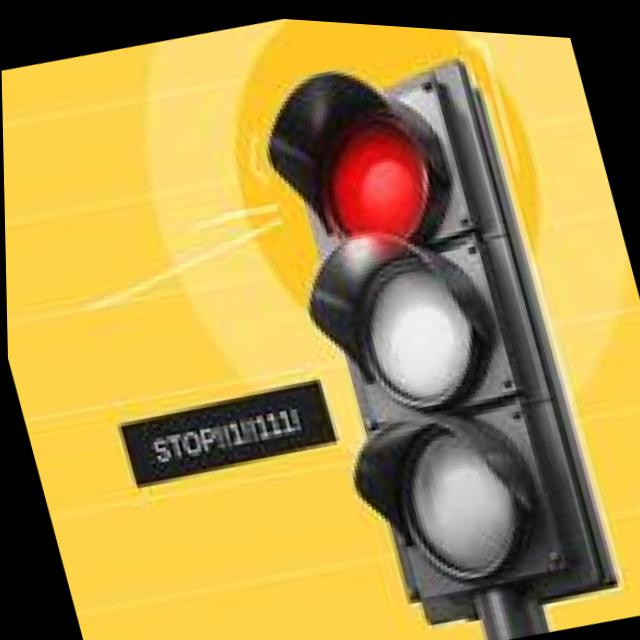red_light: (246, 22, 554, 258)
